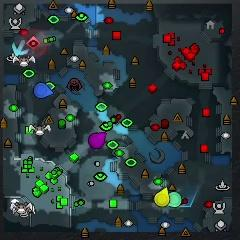p1: (34, 82, 54, 99)
p2: (167, 191, 183, 207)
p3: (88, 132, 107, 149)
p4: (154, 187, 169, 207)
x3: (13, 40, 29, 56)
